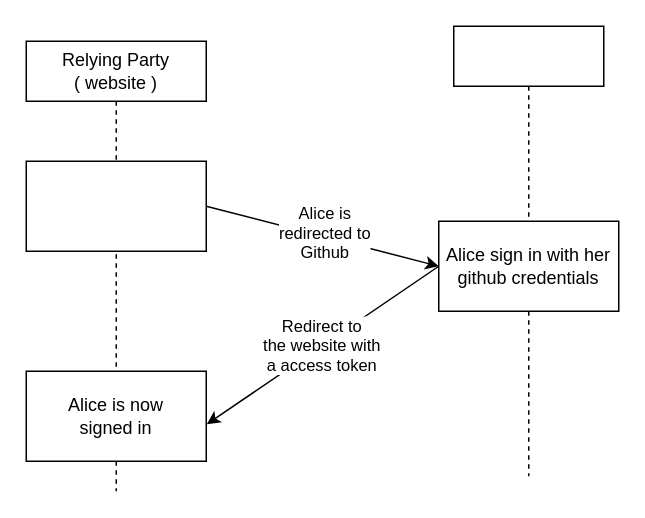
Image size: 645x518. Some labels were removed from this diagram. Here are the shapes that lost their labels. From the top down, the box of each, then its label:
(25, 160, 206, 251): Alice click on "Sign in with Github"
(452, 25, 604, 476): Identity Provider ( Github )
